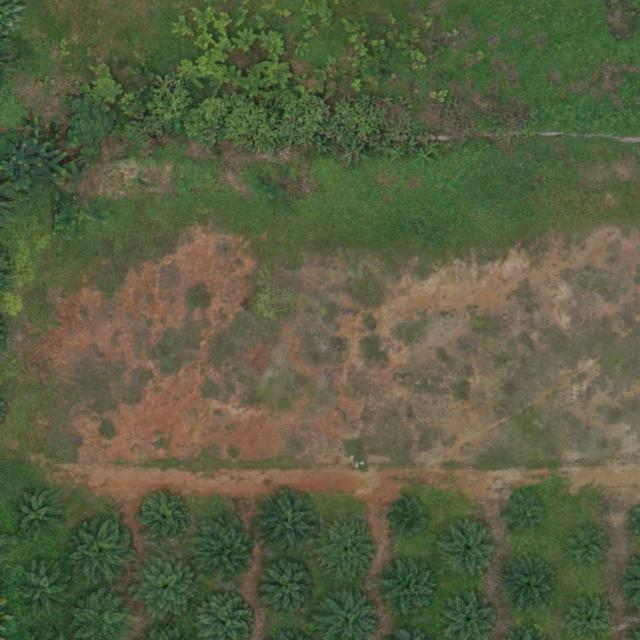Healthy: (132, 553, 203, 624), (254, 489, 324, 559), (69, 523, 132, 585), (197, 523, 259, 586), (260, 560, 322, 623), (318, 521, 380, 584), (378, 558, 440, 621), (439, 519, 501, 582), (11, 489, 66, 544), (503, 561, 558, 616), (21, 564, 75, 619), (137, 491, 191, 546)
Small: (507, 495, 546, 535), (567, 525, 607, 564), (392, 497, 432, 536)
